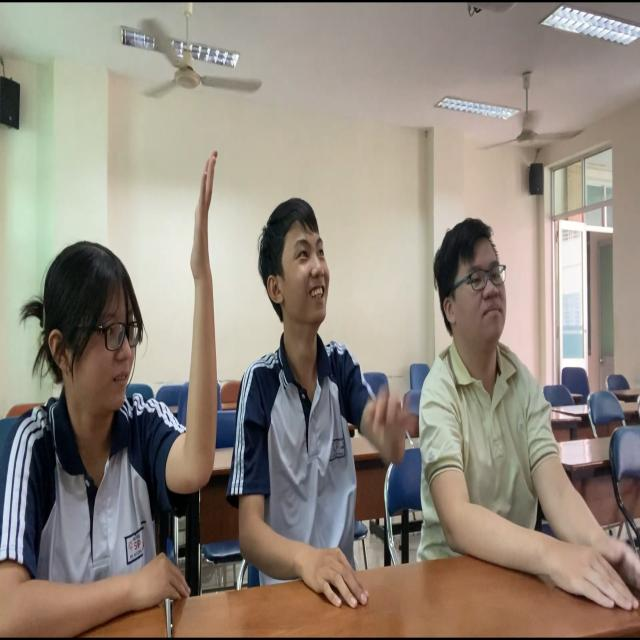raise_hand: (1, 128, 248, 640)
